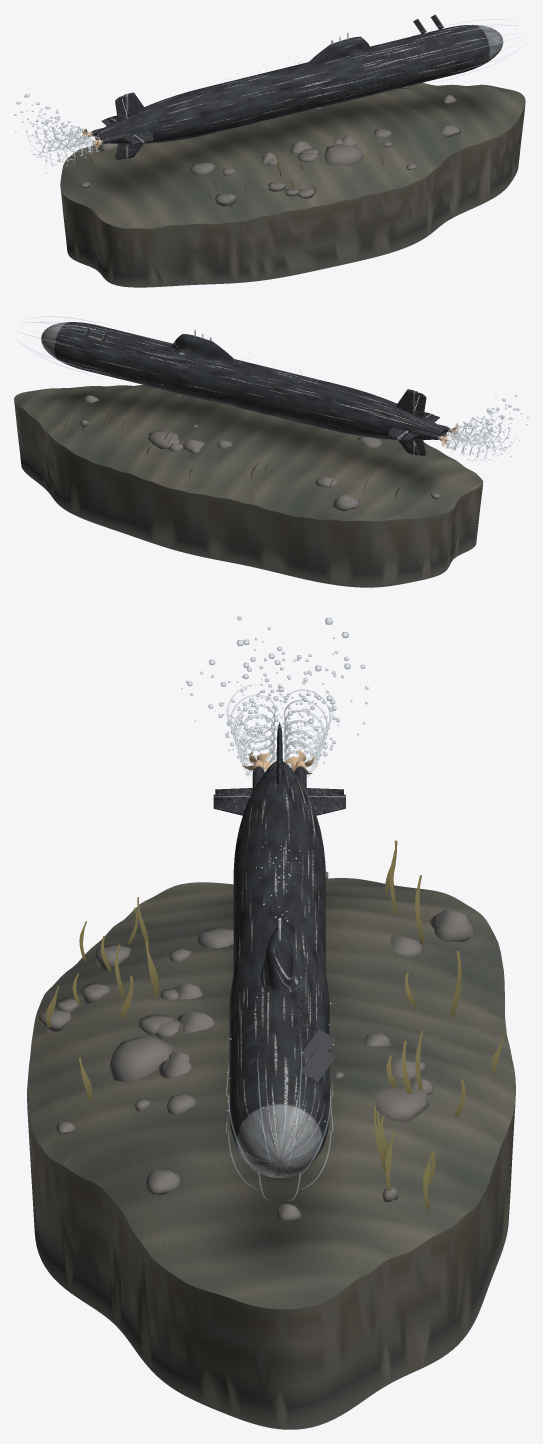
File: k162-anchar.glb
The picture shows the model from 3 angles, top to bottom: view 1: azimuth 30°, elevation 25°; view 2: azimuth 150°, elevation 25°; view 3: azimuth 270°, elevation 25°; orthographic projection. The views are drawn at different scales.
Parts seen in each view (by area): view 1: dno_morya, srez_grunta, korpus, kamni, puzyri, ograzhdenie_rubki, kilvater_vihri, strui_obtekaniya, kil_verh; view 2: dno_morya, srez_grunta, korpus, kamni, puzyri, ograzhdenie_rubki, kilvater_vihri, kil_verh, strui_obtekaniya; view 3: dno_morya, srez_grunta, korpus, kamni, laminariya, puzyri, kilvater_vihri, ograzhdenie_rubki, strui_obtekaniya.
Part boxes in pixels (x1,y1,x2,y2): dno_morya: [60, 82, 525, 228]; srez_grunta: [60, 105, 525, 287]; korpus: [94, 24, 503, 143]; kamni: [80, 86, 460, 206]; puzyri: [14, 28, 486, 173]; ograzhdenie_rubki: [305, 36, 372, 65]; kilvater_vihri: [26, 128, 98, 165]; strui_obtekaniya: [418, 19, 525, 83]; kil_verh: [122, 92, 145, 117]; dno_morya: [14, 385, 482, 521]; srez_grunta: [14, 388, 483, 587]; korpus: [41, 322, 446, 440]; kamni: [80, 385, 440, 511]; puzyri: [55, 319, 528, 462]; ograzhdenie_rubki: [171, 334, 237, 362]; kilvater_vihri: [441, 424, 515, 461]; kil_verh: [395, 389, 419, 413]; strui_obtekaniya: [18, 316, 114, 376]; dno_morya: [27, 878, 515, 1309]; srez_grunta: [27, 916, 515, 1429]; korpus: [229, 761, 329, 1177]; kamni: [39, 871, 475, 1220]; laminariya: [46, 840, 504, 1209]; puzyri: [181, 616, 368, 1173]; kilvater_vihri: [225, 684, 333, 775]; ograzhdenie_rubki: [261, 926, 298, 994]; strui_obtekaniya: [226, 1046, 333, 1200].
Bounding box in the file's own units: 129 × 44.27 × 56.17.
12 materials, 1 textured.
